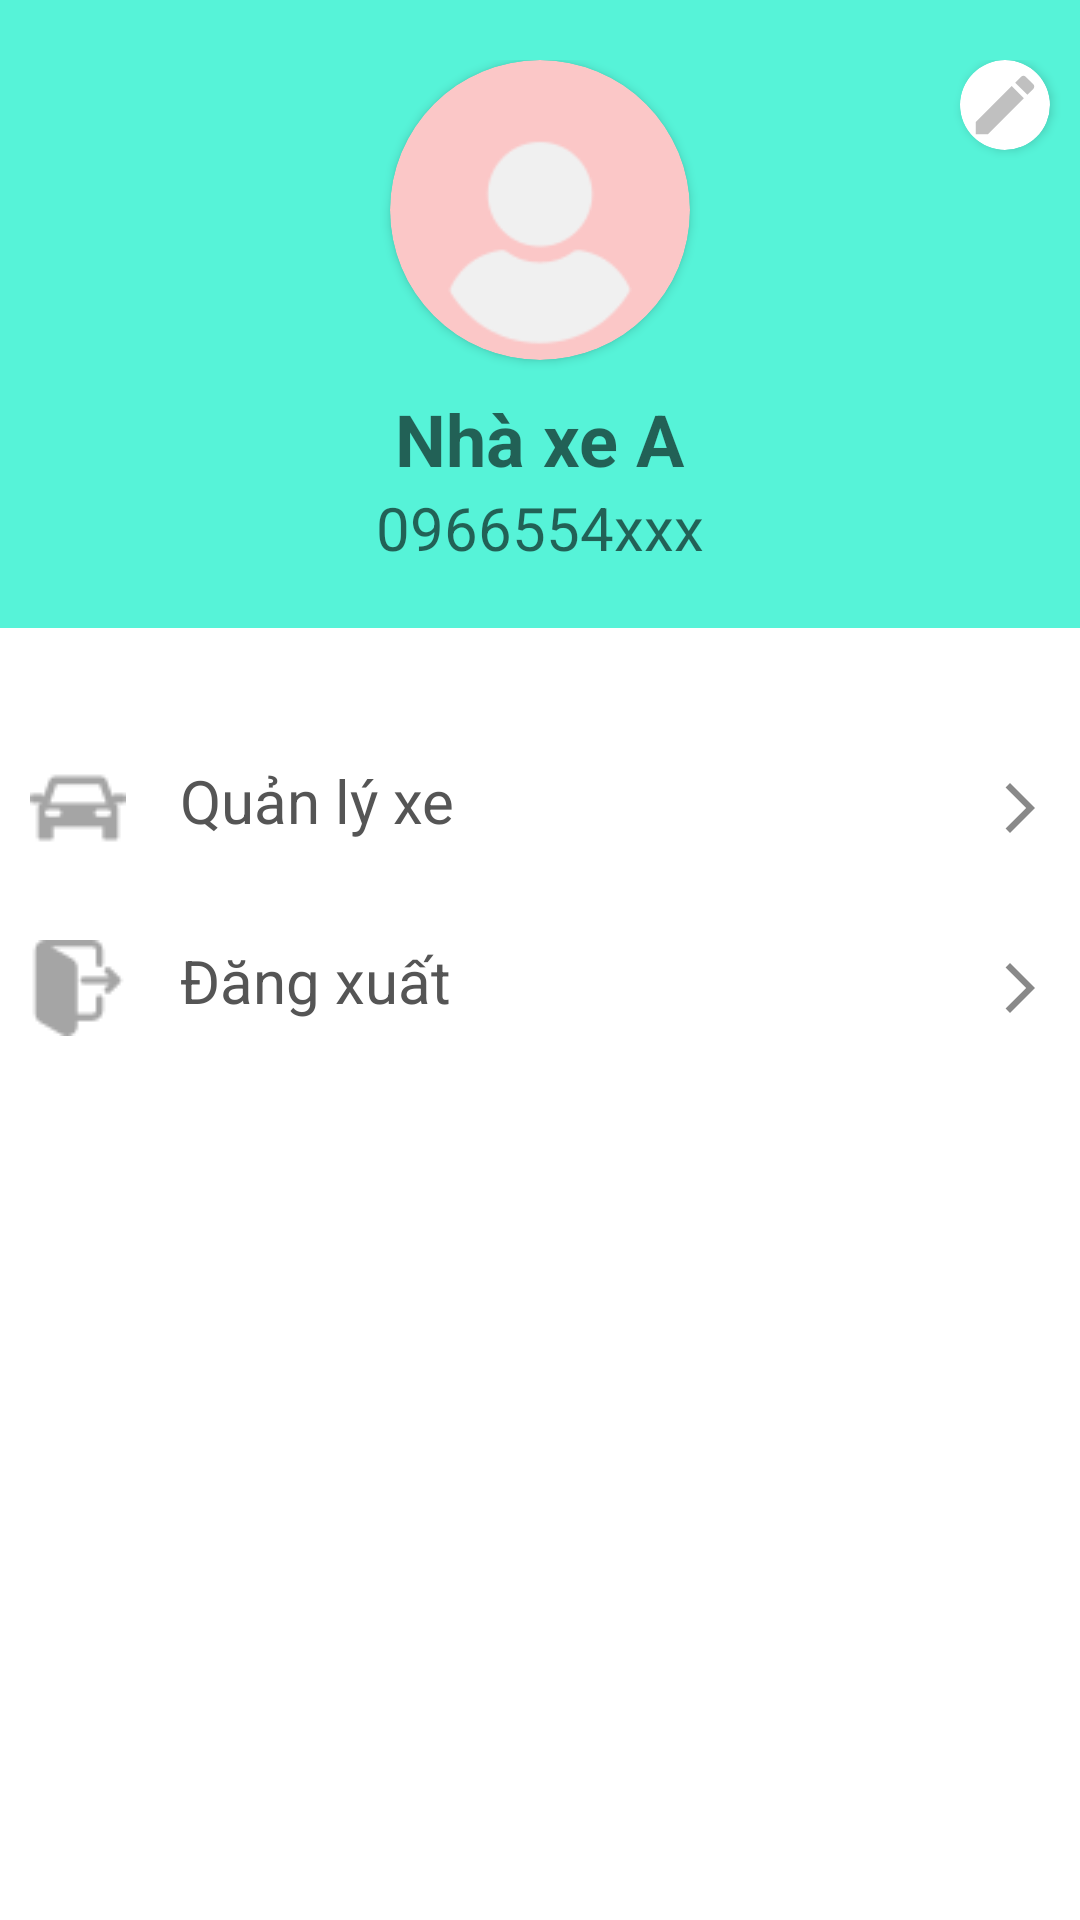

Icons on this 1080x1920 Android screen, each with its box as (x1, y1, x2, y2):
arrow forward: (1006, 783, 1035, 833), (1006, 963, 1035, 1013)
car: (30, 775, 126, 841)
mode edit: (960, 60, 1050, 150)
profile: (390, 60, 690, 360)
